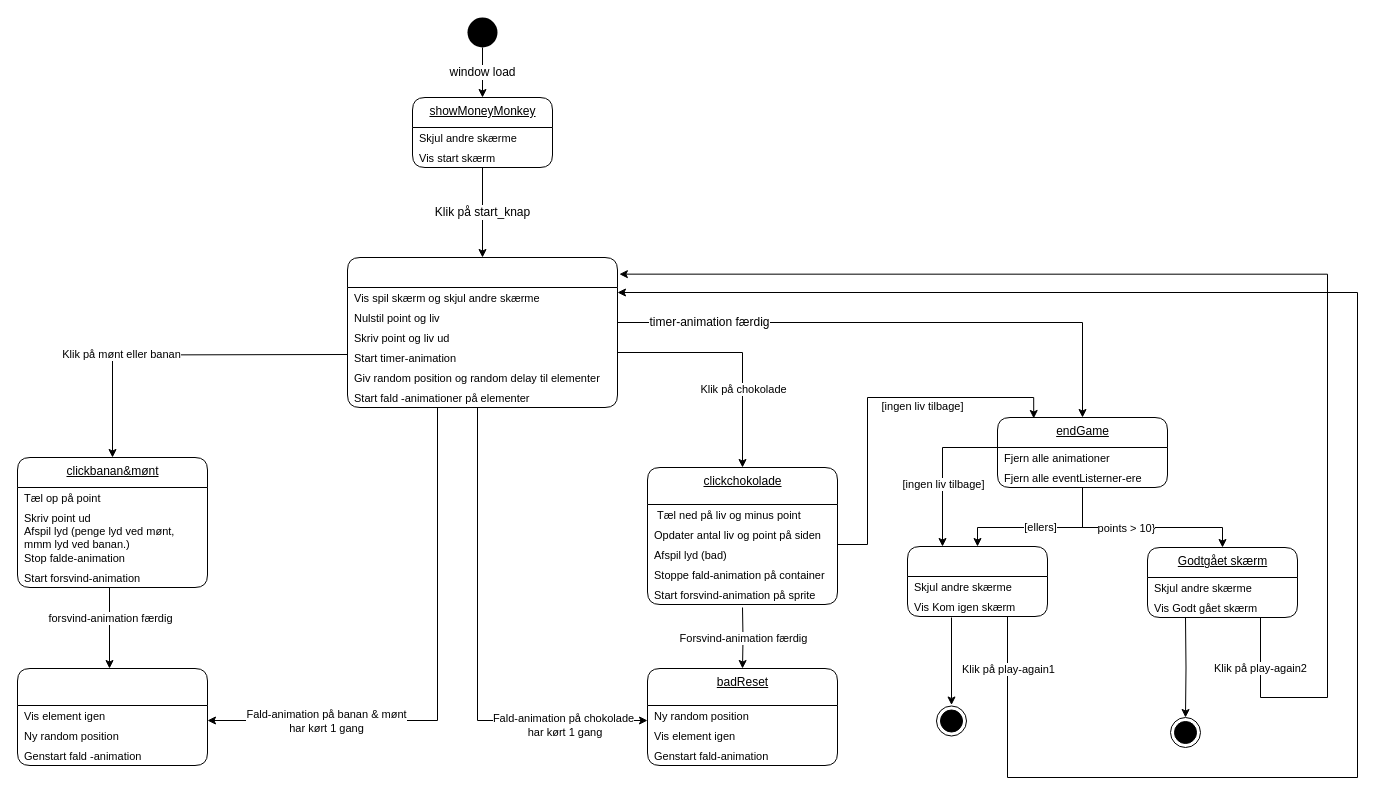
The diagram is 1383 pixels wide and 803 high, and some of its shapes have lost their labels. The shapes that lost their labels are listed below. From the top down, each one's box as (x1, y1, x2, y2) in pixels, then its label:
(346, 256, 618, 408): startSpil
(906, 546, 1048, 616): gameOver
(16, 668, 208, 766): banan&møntReset
